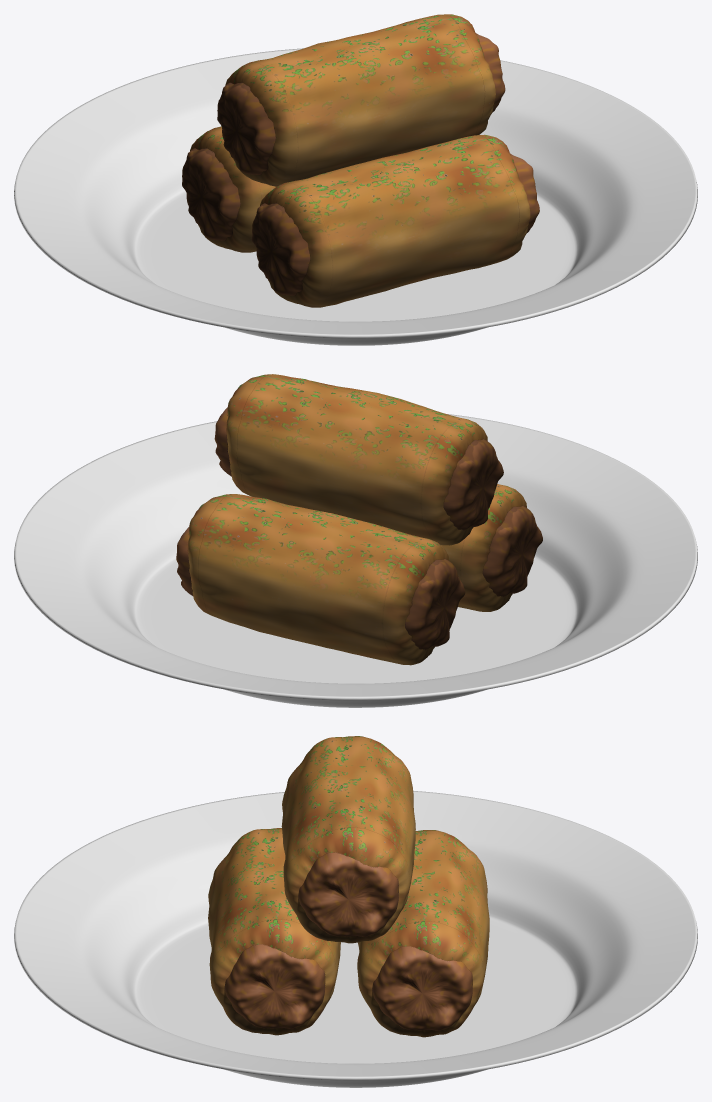
The model's file is abongulung.fbx.
3 views of the same model, one above another, from view 1: azimuth 30°, elevation 25°; view 2: azimuth 150°, elevation 25°; view 3: azimuth 270°, elevation 25° (orthographic).
Parts seen in each view (by area): view 1: plate, abongulung.001, abongulung.002, abon.001, abon.002, abon, abongulung; view 2: plate, abongulung, abongulung.002, abon, abon.002, abongulung.001, abon.001; view 3: plate, abongulung.002, abongulung, abongulung.001, abon.002, abon.001, abon.
Boxes of the visible parts, x1,y1,x2,y2 form: plate: (14,48,697,345); abongulung.001: (260,134,530,307); abongulung.002: (225,14,495,186); abon.001: (251,153,539,295); abon.002: (217,33,505,174); abon: (182,148,240,240); abongulung: (190,126,275,252); plate: (14,414,697,707); abongulung: (187,494,448,665); abongulung.002: (226,374,487,545); abon: (176,527,465,650); abon.002: (214,407,503,530); abongulung.001: (441,484,526,611); abon.001: (482,505,542,596); plate: (14,791,697,1087); abongulung.002: (281,736,415,943); abongulung: (357,830,489,1037); abongulung.001: (208,828,340,1035); abon.002: (298,852,398,936); abon.001: (224,944,325,1028); abon: (372,946,472,1030).
Size of the model in its own units: 79.64 by 27.6 by 79.64.
Materials: 3 (2 with a texture image).
